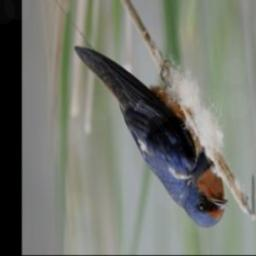Swallow: (73, 45, 230, 230)
